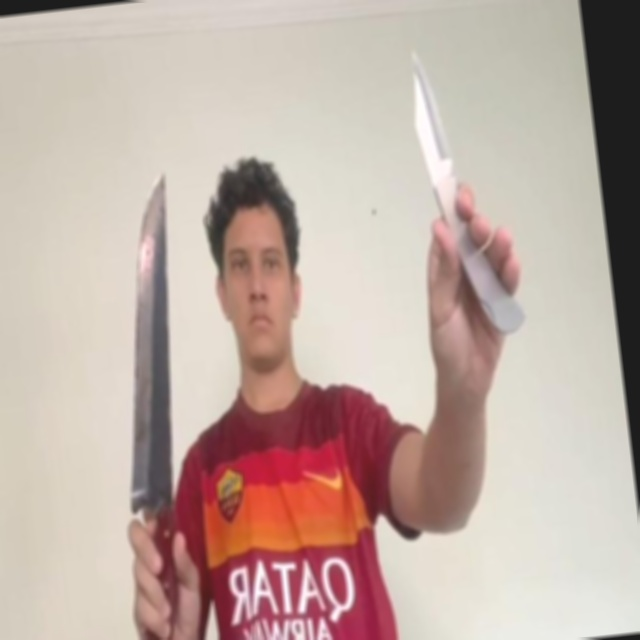Sharp-Object: (92, 172, 204, 513), (408, 45, 455, 181)
